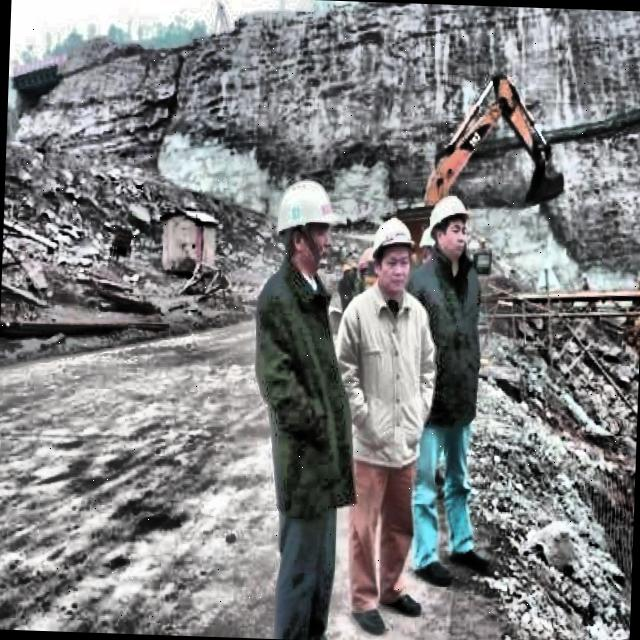helmet: (269, 174, 338, 279), (370, 213, 418, 297), (427, 186, 472, 262)
